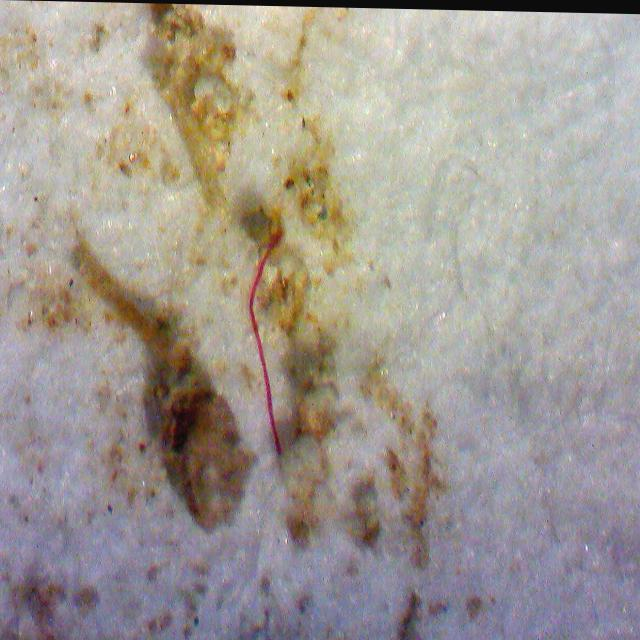microplastic: (248, 231, 282, 452)
